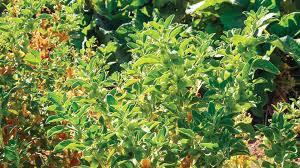healthy_leaf: (4, 7, 300, 168)
